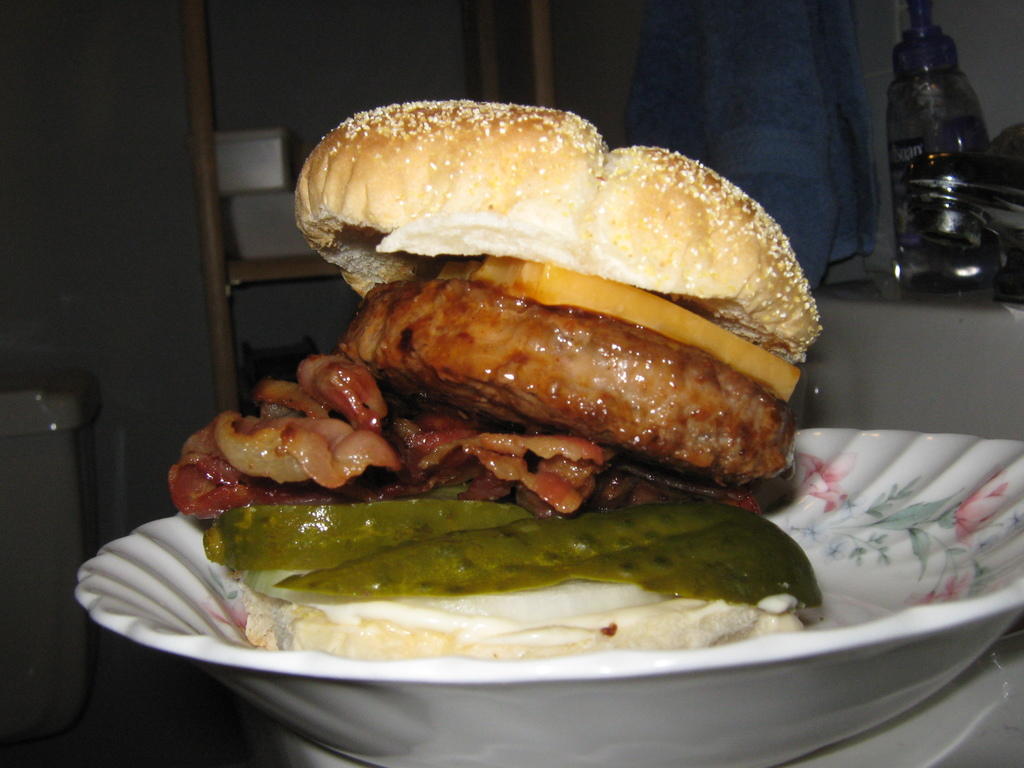Hamburger: (174, 102, 829, 661)
